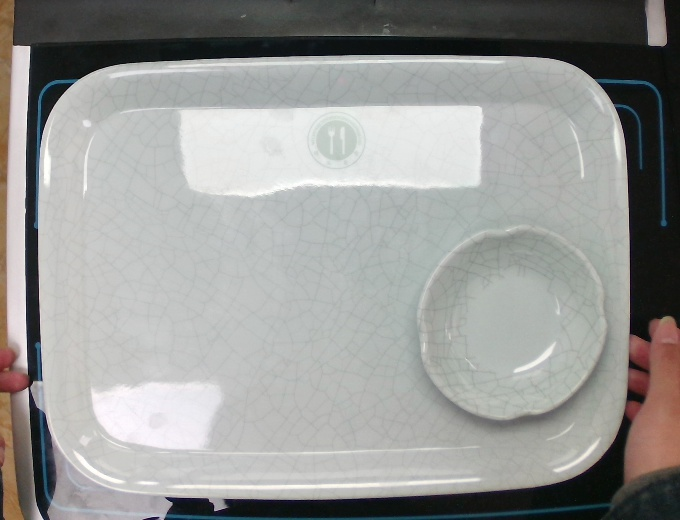JYsf-Ao_Yuan_Wan: (413, 221, 610, 423)
